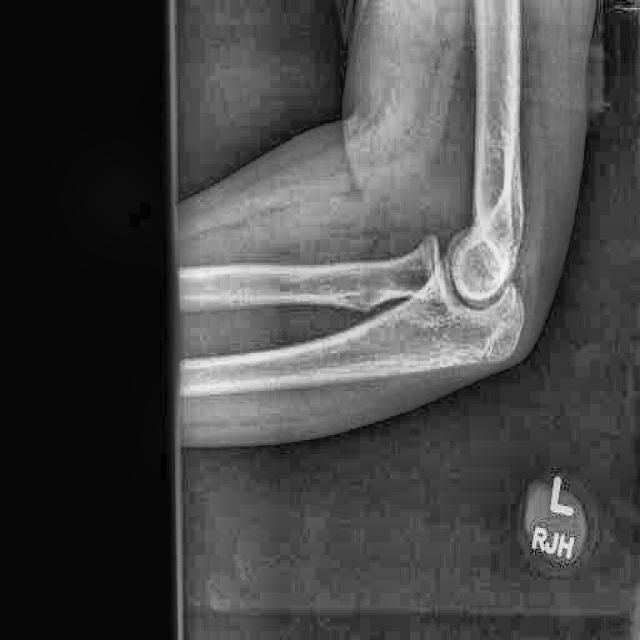elbow positive: (469, 312, 530, 380)
